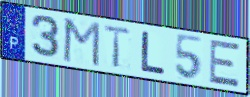3: (29, 14, 62, 60)
5: (174, 32, 205, 83)
E: (208, 38, 242, 89)
L: (139, 29, 167, 77)
M: (61, 17, 102, 69)
T: (102, 23, 133, 69)
